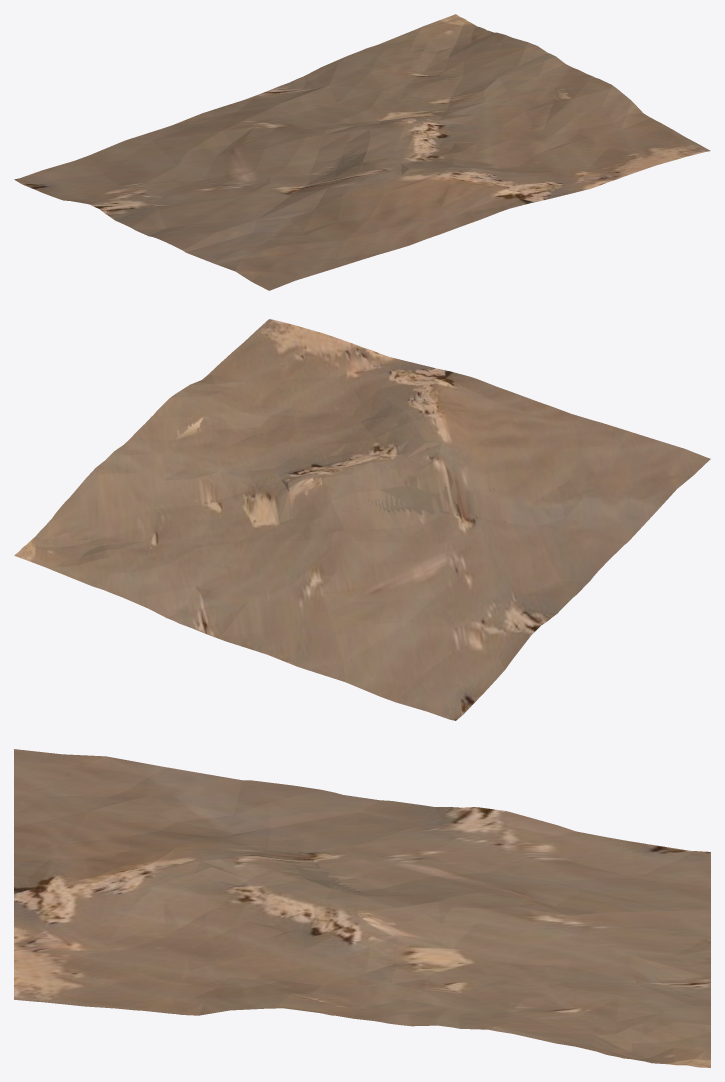
3 renders of one model, top to bottom at view 1: azimuth 30°, elevation 25°; view 2: azimuth 150°, elevation 25°; view 3: azimuth 270°, elevation 25°, orthographic. The views are drawn at different scales.
Bounding box in the file's own units: 1.04 × 0.2437 × 1.04.
Materials: 2 (2 with a texture image).
